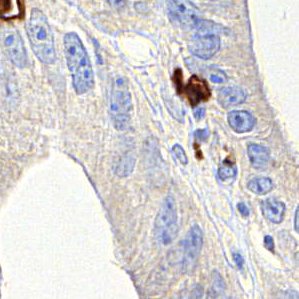Lymphocyte: (171, 66, 211, 110)
